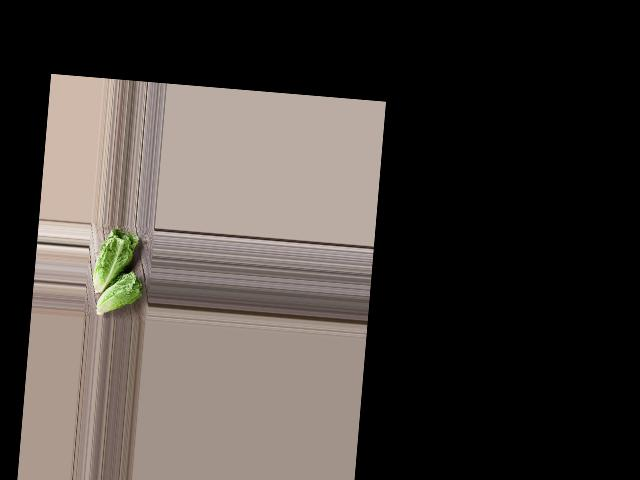lettuce: (93, 267, 147, 321)
